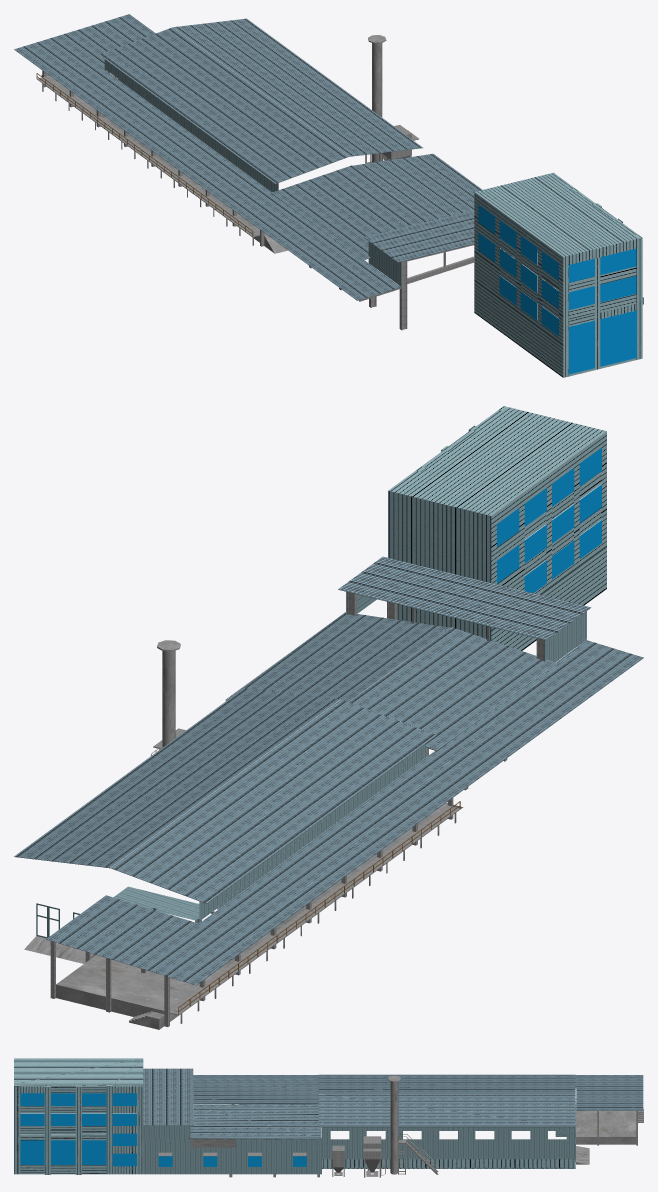
Rendered from changfang04.gltf.
3 renders of one model, top to bottom at view 1: azimuth 30°, elevation 25°; view 2: azimuth 150°, elevation 25°; view 3: azimuth 270°, elevation 25°, orthographic. The views are drawn at different scales.
Visible parts, largest first — view 1: changfang04_199, changfang04_99, changfang04_360, changfang04_34, changfang04_328, changfang04_320, changfang04_364, changfang04_72, changfang04_120, changfang04_101, changfang04_154, changfang04_368 (+5 smaller); view 2: changfang04_99, changfang04_199, changfang04_360, changfang04_34, changfang04_328, changfang04_320, changfang04_364, changfang04_368, changfang04_120, changfang04_72, changfang04_39, changfang04_100; view 3: changfang04_120, changfang04_199, changfang04_34, changfang04_360, changfang04_320, changfang04_99, changfang04_328, changfang04_364, changfang04_368, changfang04_361, changfang04_39, changfang04_56 (+16 smaller).
Boxes of the visible parts, <box> form: changfang04_199: <box>474,172,643,377</box>; changfang04_99: <box>14,14,401,300</box>; changfang04_360: <box>99,27,349,183</box>; changfang04_34: <box>173,18,422,156</box>; changfang04_328: <box>271,165,428,260</box>; changfang04_320: <box>353,153,482,220</box>; changfang04_364: <box>363,210,474,262</box>; changfang04_72: <box>37,76,259,237</box>; changfang04_120: <box>104,59,278,192</box>; changfang04_101: <box>600,310,636,366</box>; changfang04_154: <box>569,320,594,374</box>; changfang04_368: <box>47,72,287,253</box>; changfang04_99: <box>46,640,643,985</box>; changfang04_199: <box>388,406,606,650</box>; changfang04_360: <box>111,699,436,903</box>; changfang04_34: <box>14,688,339,868</box>; changfang04_328: <box>348,627,557,751</box>; changfang04_320: <box>225,612,449,702</box>; changfang04_364: <box>338,556,591,640</box>; changfang04_368: <box>56,803,463,1021</box>; changfang04_120: <box>113,744,426,923</box>; changfang04_72: <box>169,805,460,1015</box>; changfang04_39: <box>162,650,175,747</box>; changfang04_100: <box>544,611,586,662</box>; changfang04_120: <box>143,1127,575,1174</box>; changfang04_199: <box>14,1058,143,1174</box>; changfang04_34: <box>318,1094,575,1127</box>; changfang04_360: <box>318,1074,575,1093</box>; changfang04_320: <box>187,1104,321,1139</box>; changfang04_99: <box>193,1075,643,1110</box>; changfang04_328: <box>193,1081,318,1104</box>; changfang04_364: <box>143,1068,193,1125</box>; changfang04_368: <box>575,1107,636,1144</box>; changfang04_361: <box>143,1125,190,1142</box>; changfang04_39: <box>390,1081,398,1174</box>; changfang04_56: <box>82,1140,106,1164</box>.
Size of what is drawn, in the model's own units: 258 by 155 by 908.
6 materials, 3 textured.
